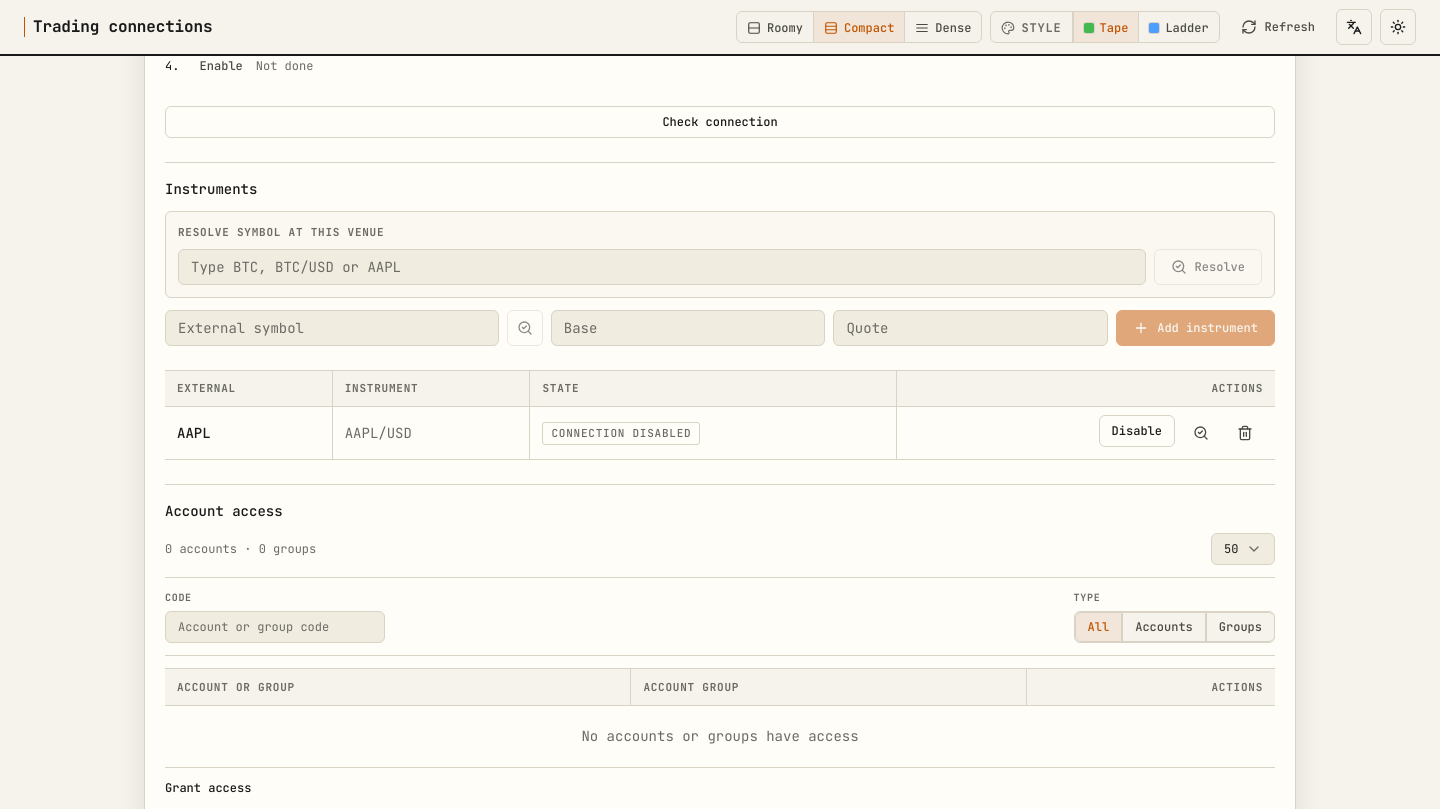
Test: Trading connections › removes a row verify banner when its instrument disappears through delete
(page scrolled)
What coordinates should you click on to do the following:
click the button named "Verify symbol" in the row of "USD"
I would click on:
 (1201, 433)
Its box is [1183,415,1219,451].
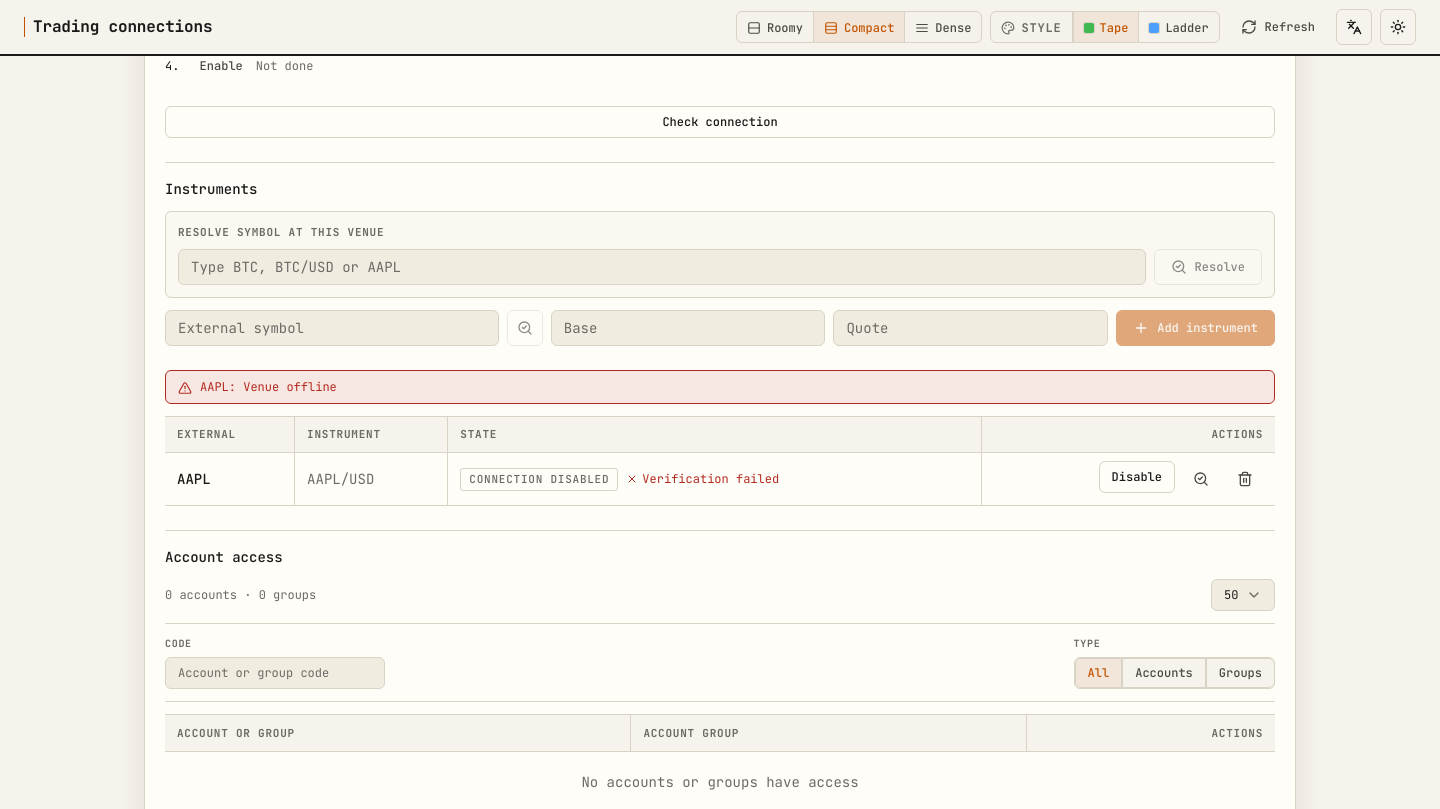
Now the text "AAPL: Venue offline" is shown, box [200,379,337,395]
What coordinates should you click on to do the following:
click the button named "Delete instrument"
I would click on:
 (1245, 479)
Its box is [1227,461,1263,497].
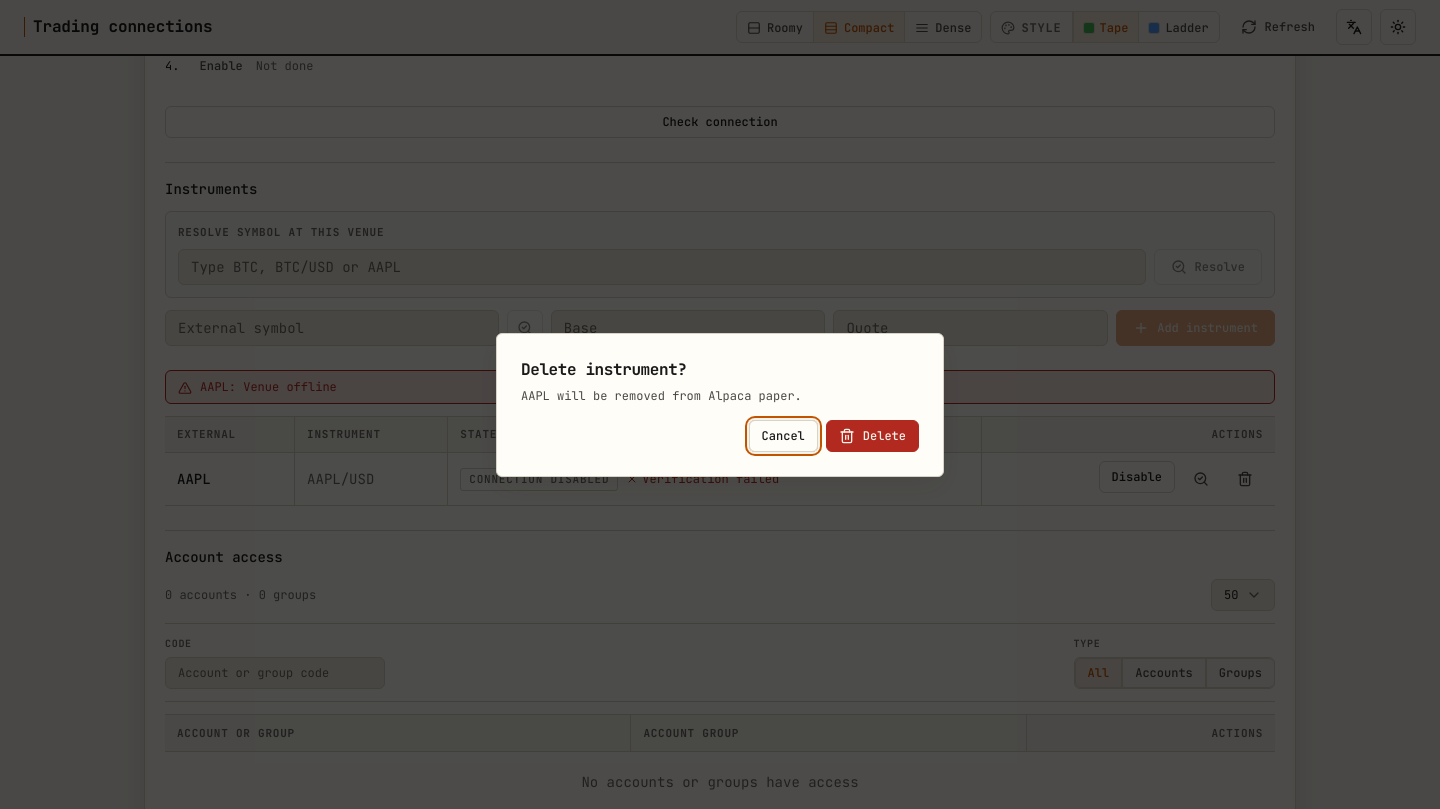
What coordinates should you click on to do the following:
click the button "Delete"
I would click on:
 (872, 436)
Its box is [826,420,919,452].
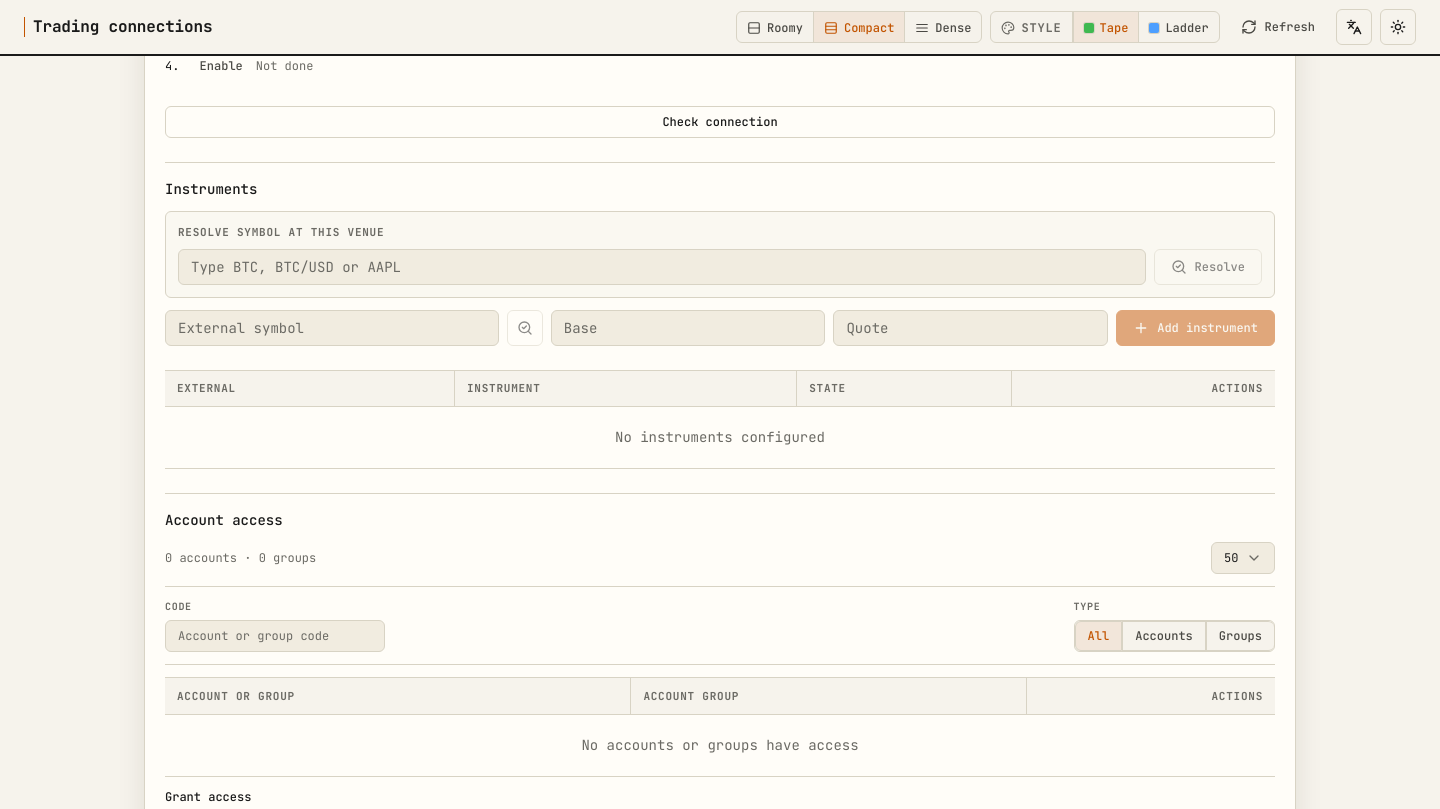
Now the text "AAPL: Venue offline" is gone
